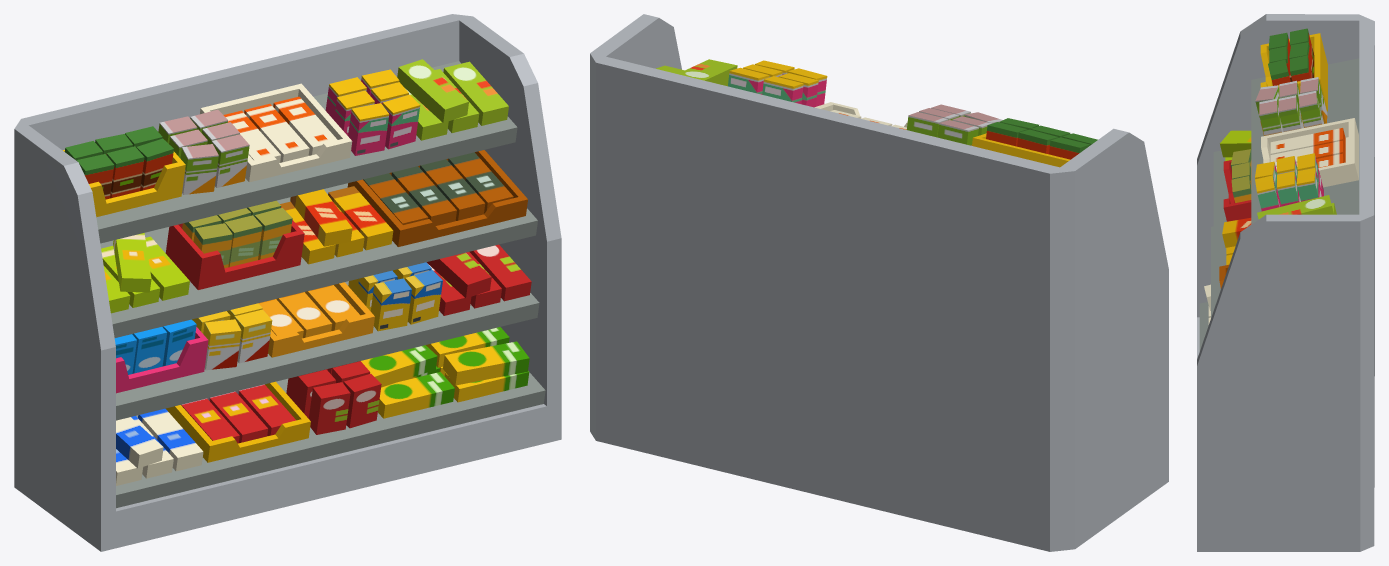
The model's file is SM_Prop_Market_Checkout_Shelf_Large_01.obj.
3 renders of one model, left to right at view 1: azimuth 30°, elevation 25°; view 2: azimuth 150°, elevation 25°; view 3: azimuth 270°, elevation 25°, orthographic. The views are drawn at different scales.
Parts seen in each view (by area): view 1: SM_Prop_Market_Checkout_Shelf_Large_01_0, SM_Prop_Market_Checkout_Shelf_Large_01_1; view 2: SM_Prop_Market_Checkout_Shelf_Large_01_1, SM_Prop_Market_Checkout_Shelf_Large_01_0; view 3: SM_Prop_Market_Checkout_Shelf_Large_01_1, SM_Prop_Market_Checkout_Shelf_Large_01_0.
Part boxes in pixels (x1=…): SM_Prop_Market_Checkout_Shelf_Large_01_0: x1=63, y1=59, x2=545, y2=508; SM_Prop_Market_Checkout_Shelf_Large_01_1: x1=14, y1=14, x2=561, y2=551; SM_Prop_Market_Checkout_Shelf_Large_01_1: x1=590, y1=14, x2=1168, y2=551; SM_Prop_Market_Checkout_Shelf_Large_01_0: x1=656, y1=59, x2=1097, y2=167; SM_Prop_Market_Checkout_Shelf_Large_01_1: x1=1197, y1=14, x2=1374, y2=551; SM_Prop_Market_Checkout_Shelf_Large_01_0: x1=1199, y1=28, x2=1359, y2=351.
Size of the model in its own units: 1.39 by 1.03 by 0.504.
2 materials, 2 textured.
